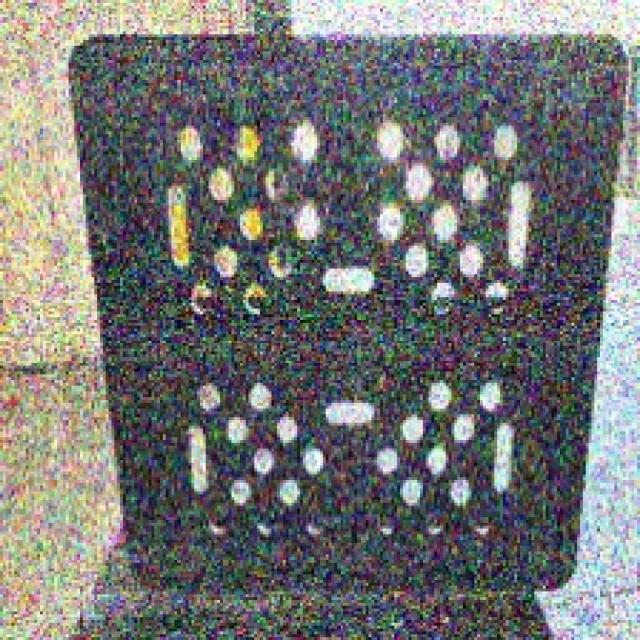igps: (59, 24, 640, 604)
